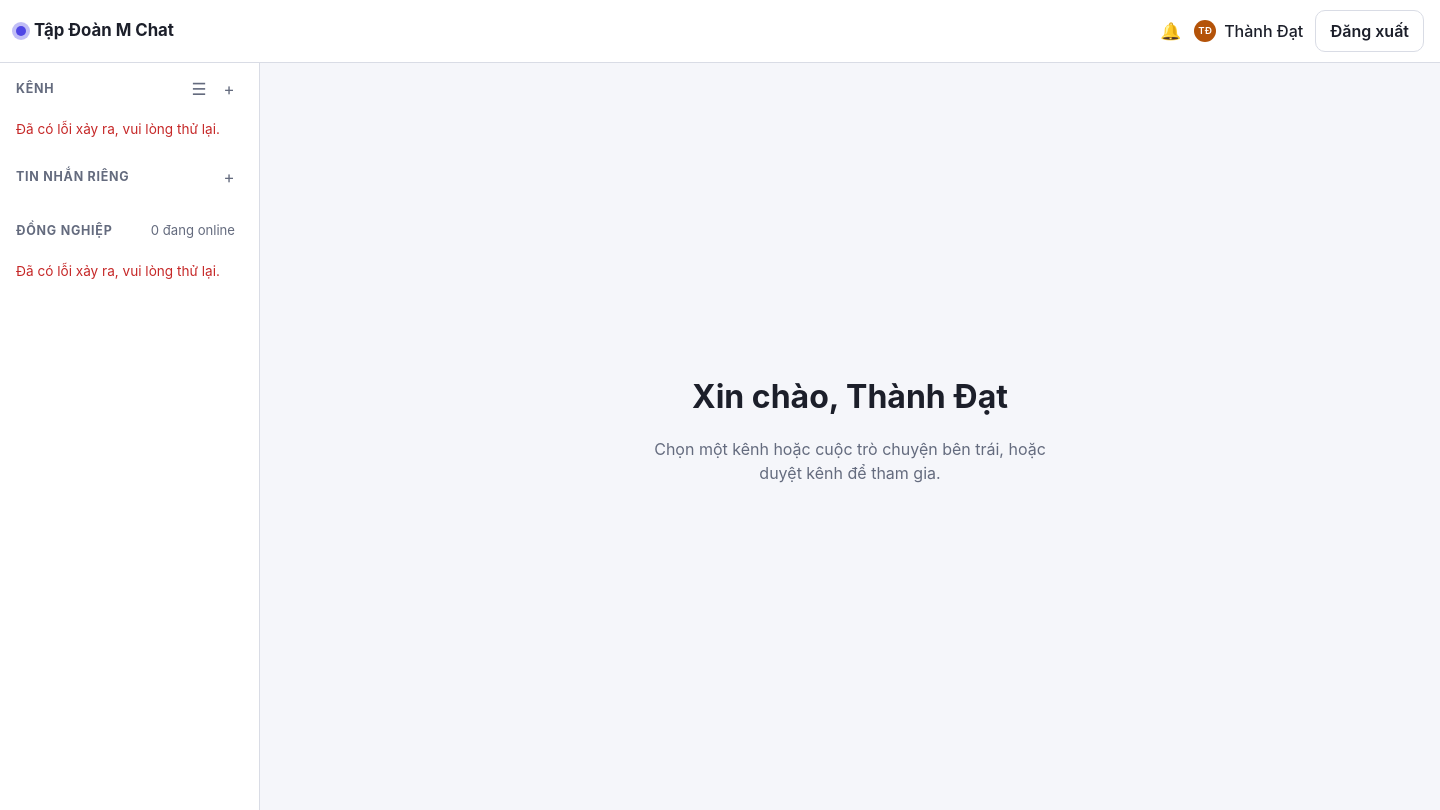
Test: trạng thái phiên › refresh đang chạy không khôi phục phiên sau logout
Expected: the heading "Xin chào, Thành Đạt" is shown, x1=692 y1=376 x2=1008 y2=416
Click the button "Đăng xuất" at (1370, 31), box x1=1315 y1=10 x2=1424 y2=52
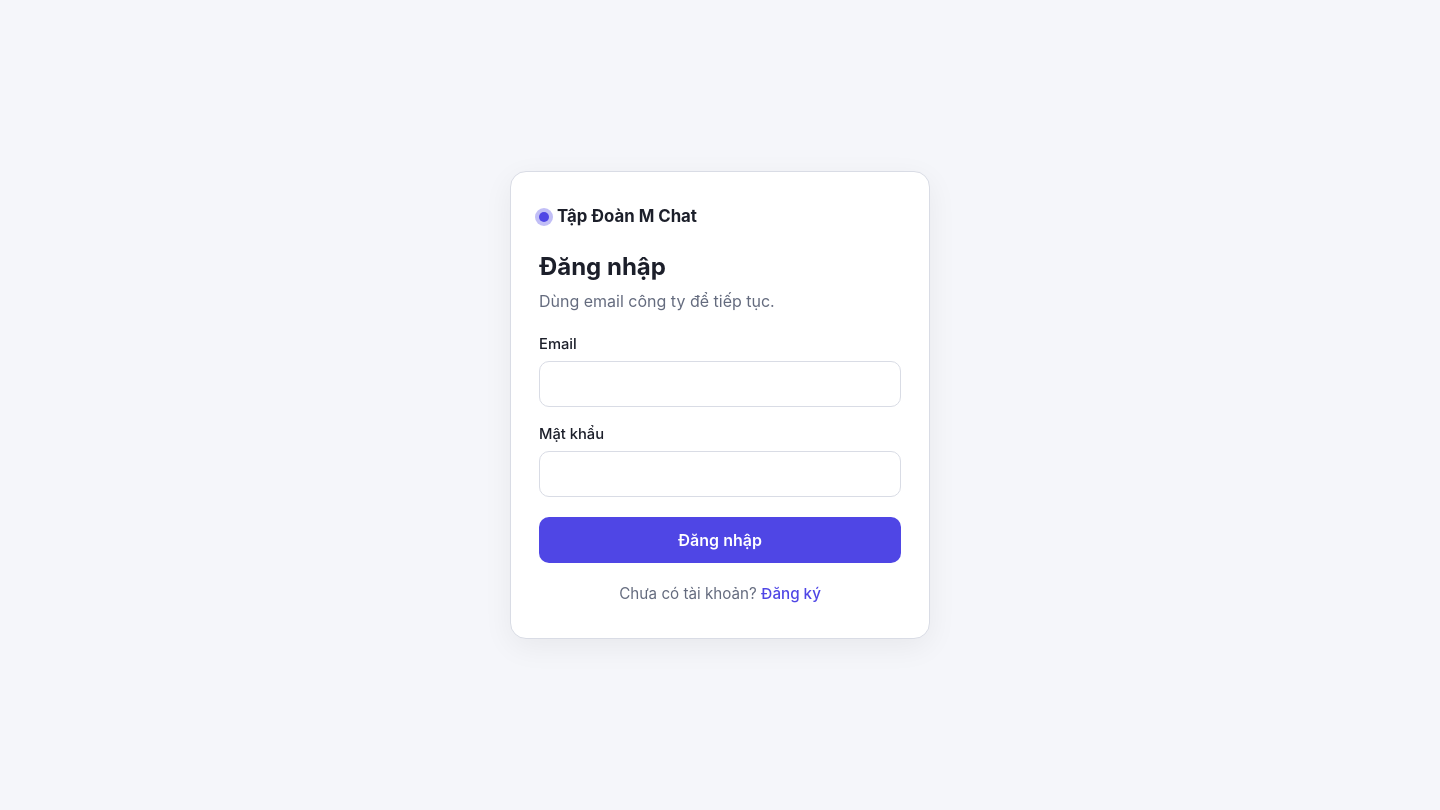
Expected: the heading "Đăng nhập" is shown, x1=539 y1=252 x2=666 y2=281
